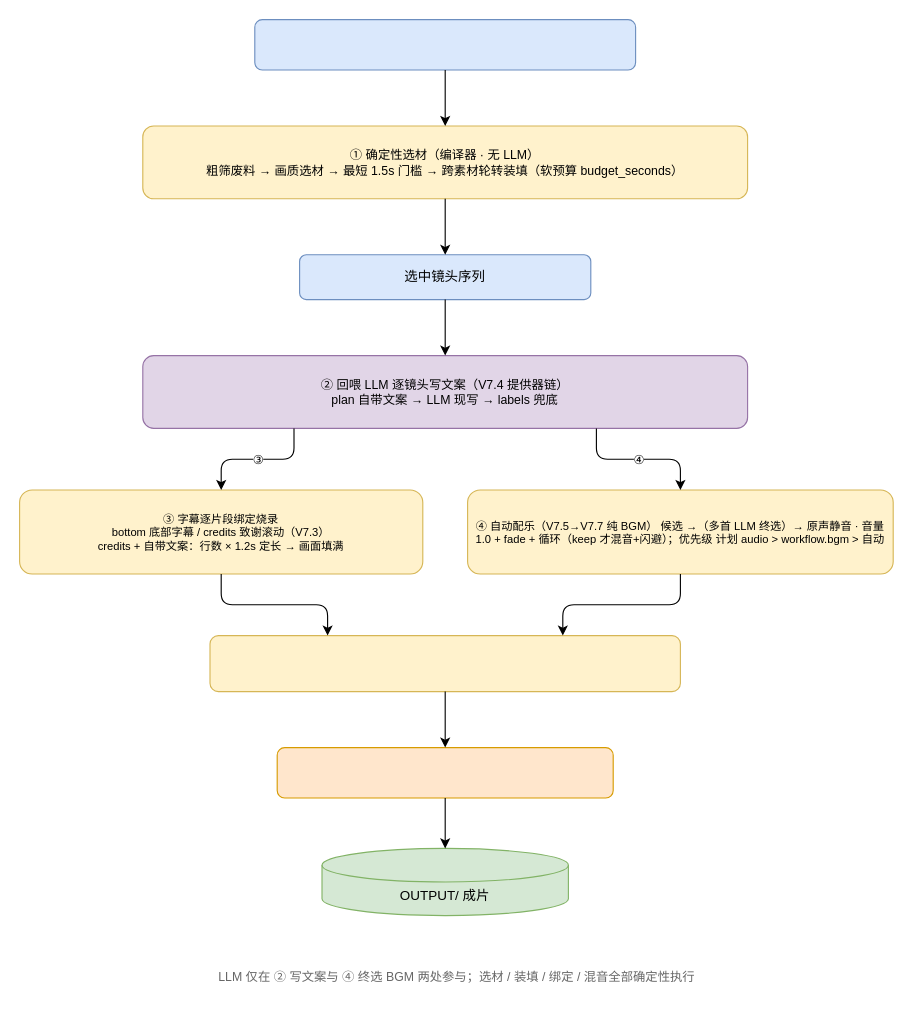
Image size: 913x1014. Some labels were removed from this diagram. The shapes that lost their labels are listed below. From the top down, each one's box as (x1, y1, x2, y2) in pixels, then its label:
(254, 18, 636, 70): INPUT/ 全部素材（视频 + 纯音频）
(209, 634, 680, 692): plan_compiler ◆ — 铺字幕/配乐 → 时间轴换算 → 命令生成（预检后）
(276, 746, 613, 798): ffmpeg 渲染 + ffprobe 回验
